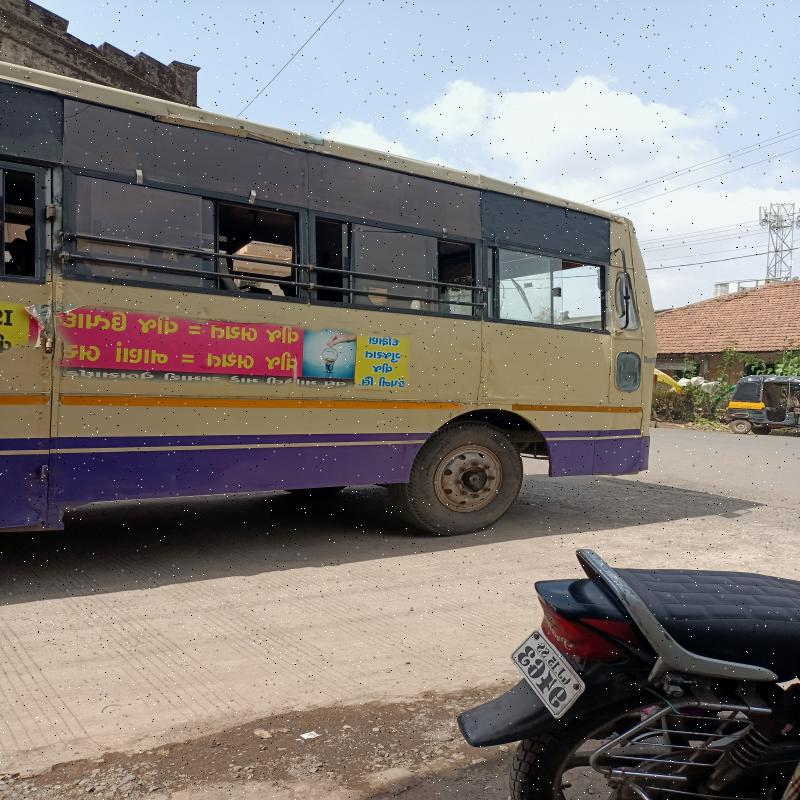bus: (0, 98, 661, 544)
